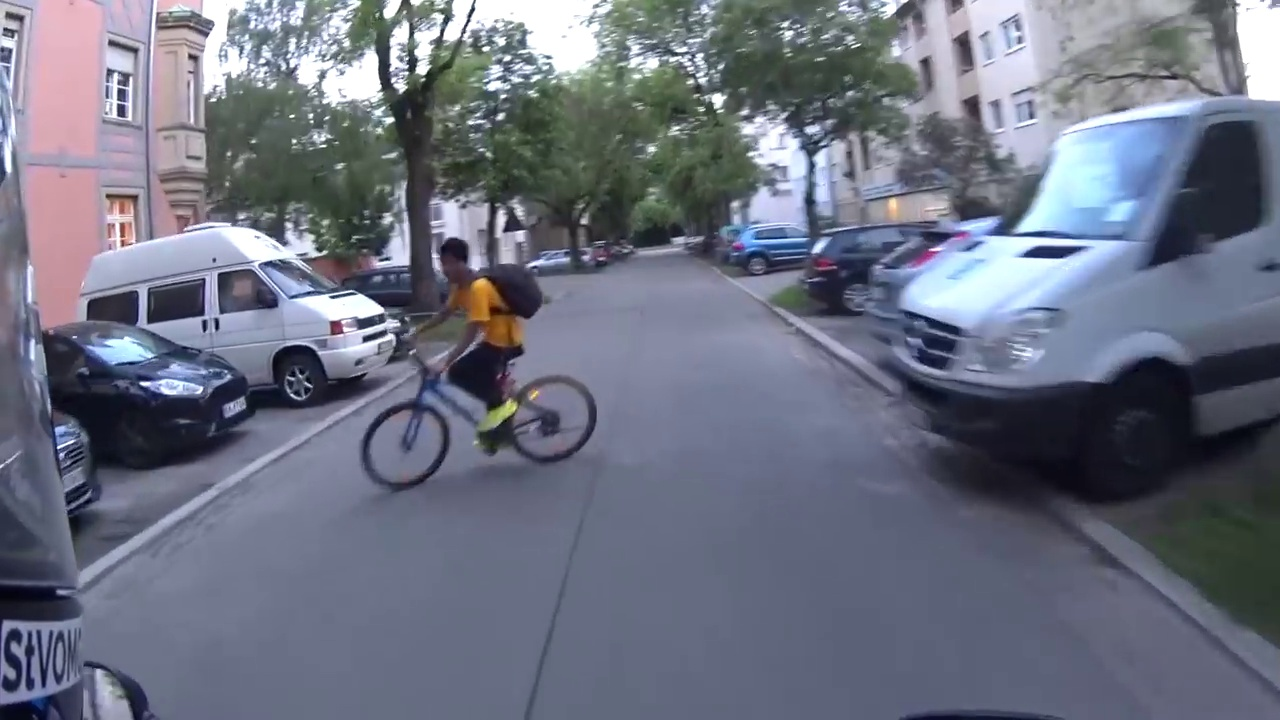cyclist_side: (353, 233, 612, 499)
